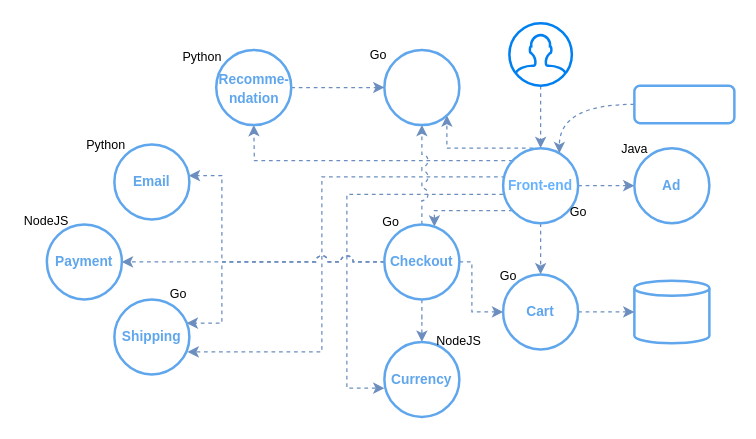
Some shapes in this 756 by 439 pixel diagram are drawn without their labels. The shapes that lost their labels are listed below. From the top down, each one's box as (x1, y1, x2, y2) in pixels, then its label:
(508, 21, 572, 86): User
(382, 48, 460, 126): Product Catalogue
(632, 84, 735, 124): Load Generator
(632, 279, 710, 344): Cache (Redis)
